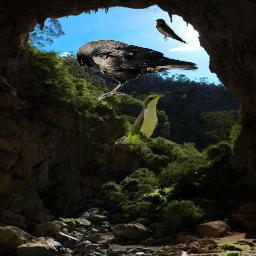Crow: (76, 39, 199, 101)
Cuckoo: (115, 93, 164, 151)
Swallow: (155, 18, 188, 44)
